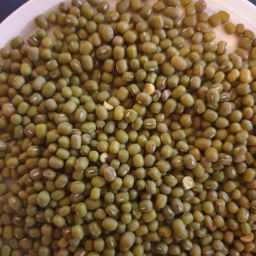Green gram dal(moong): (66, 3, 216, 256), (17, 13, 256, 107), (47, 13, 133, 256), (178, 2, 256, 256), (4, 29, 67, 256)
